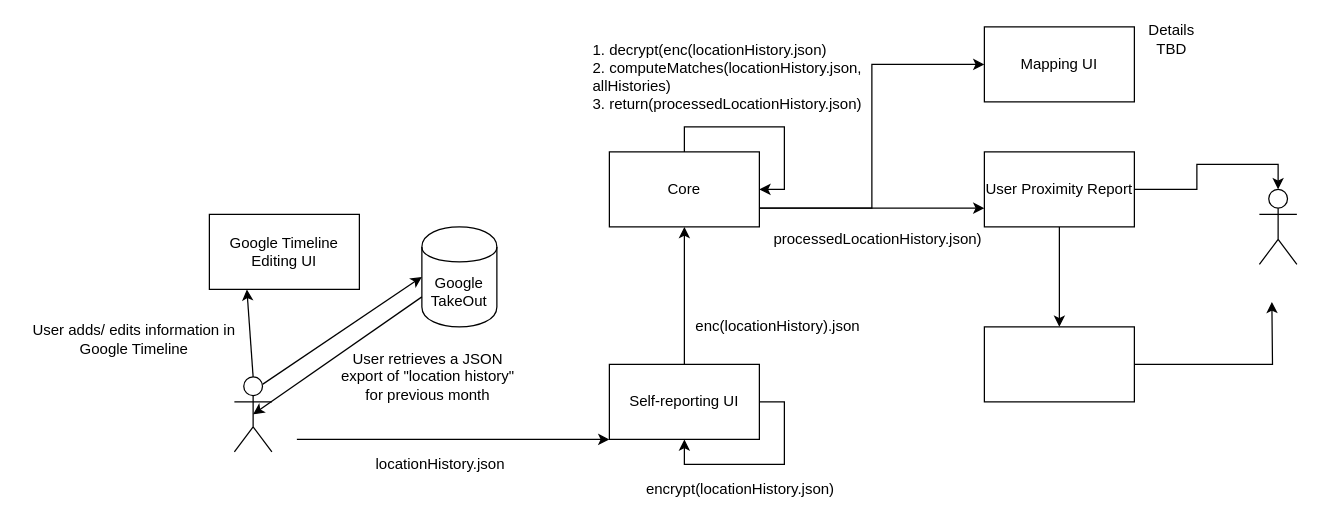
This 1319x524 diagram has some shape labels left out. The centre of each missing label's shape, as x and y in pixels:
"Notification system" belongs at pixel 1058 364.
"Reporter" belongs at pixel 252 414.
"User" belongs at pixel 1277 226.
